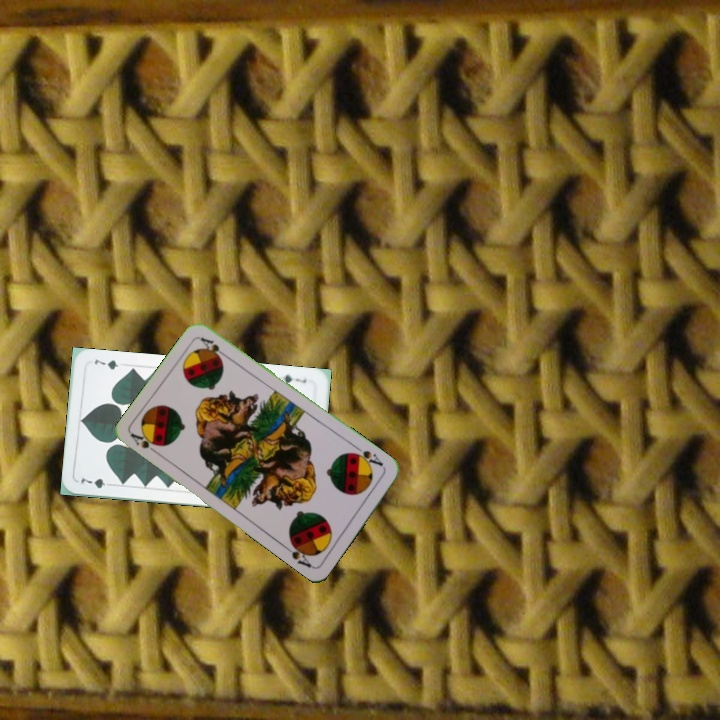G7: (77, 474, 116, 491), (279, 371, 309, 386)
SA: (127, 428, 164, 458), (348, 442, 386, 470)
